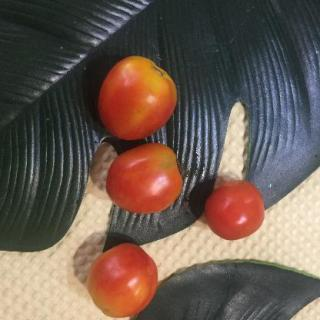Tomat: (92, 51, 186, 141), (72, 237, 170, 317), (95, 139, 188, 215), (207, 180, 268, 240)
